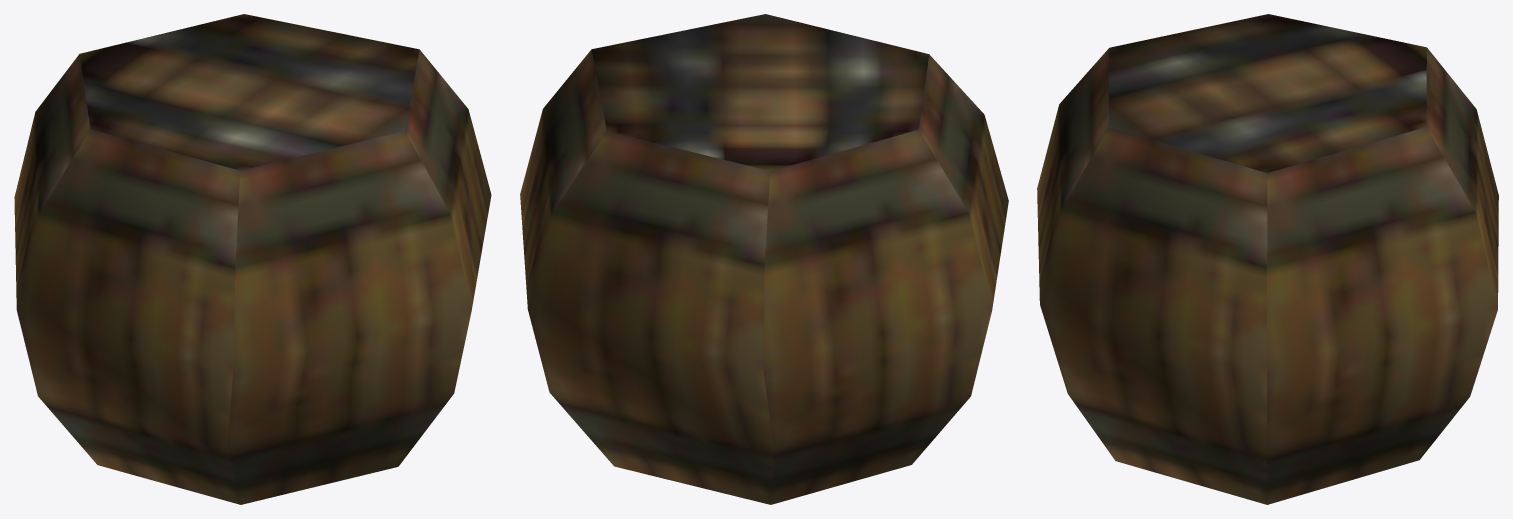
Rendered from h5_mutong.FBX.
3 renders of one model, left to right at view 1: azimuth 30°, elevation 25°; view 2: azimuth 150°, elevation 25°; view 3: azimuth 270°, elevation 25°, orthographic.
Visible parts, largest first — view 1: h5_mutong; view 2: h5_mutong; view 3: h5_mutong.
Boxes of the visible parts, bbox=[...] form: h5_mutong: bbox=[14, 14, 491, 504]; h5_mutong: bbox=[520, 14, 1008, 504]; h5_mutong: bbox=[1037, 14, 1498, 504].
Bounding box in the file's own units: 1.71 × 1.17 × 1.46.
Materials: 1 (1 with a texture image).
